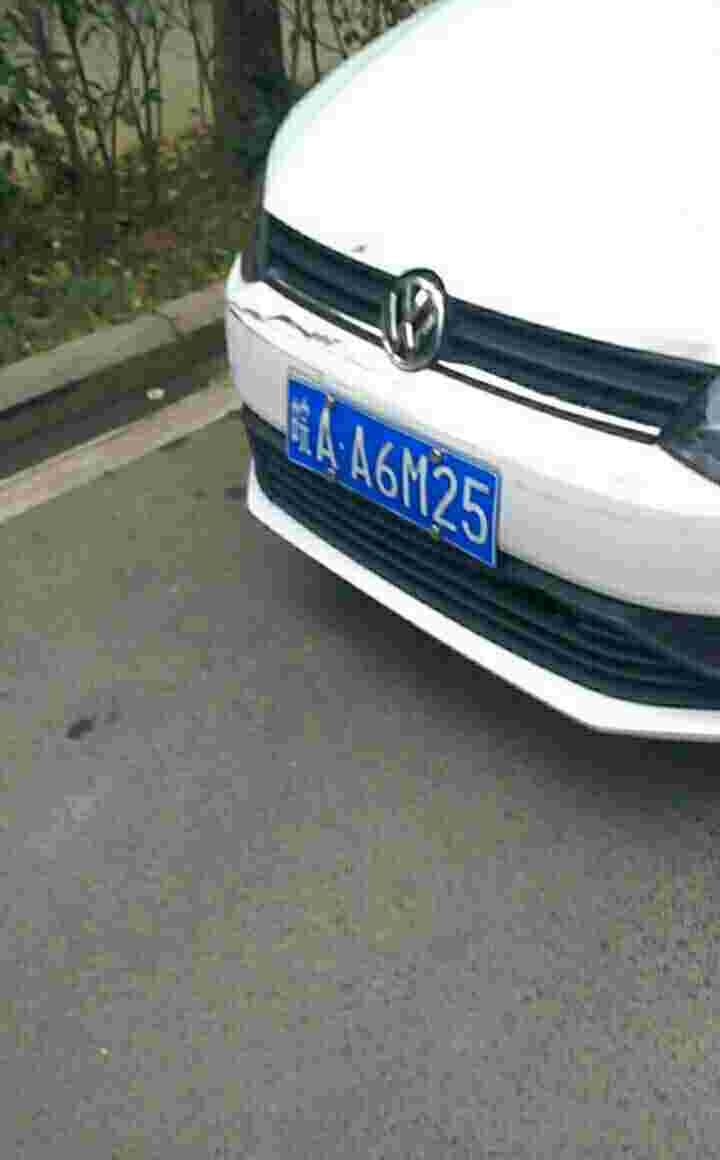license_plate: (268, 371, 502, 555)
